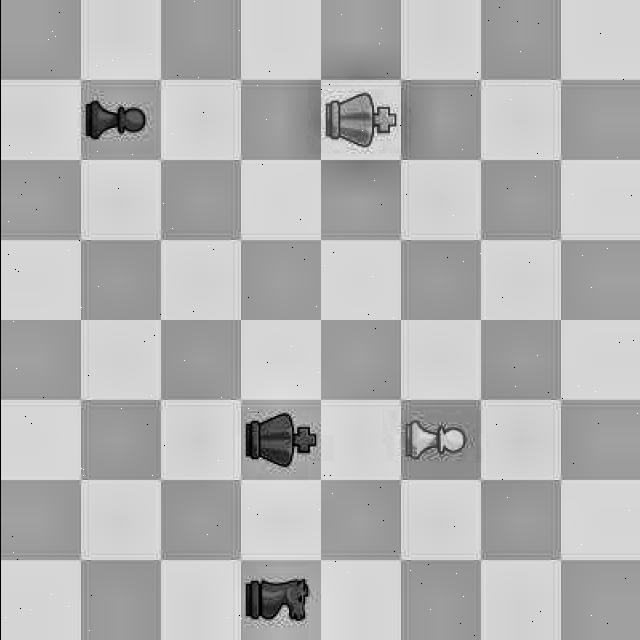Black Knight: (238, 564, 316, 634)
black king: (243, 405, 315, 480)
black pawn: (80, 77, 160, 163)
white king: (318, 78, 400, 154)
white pawn: (404, 396, 478, 474)
